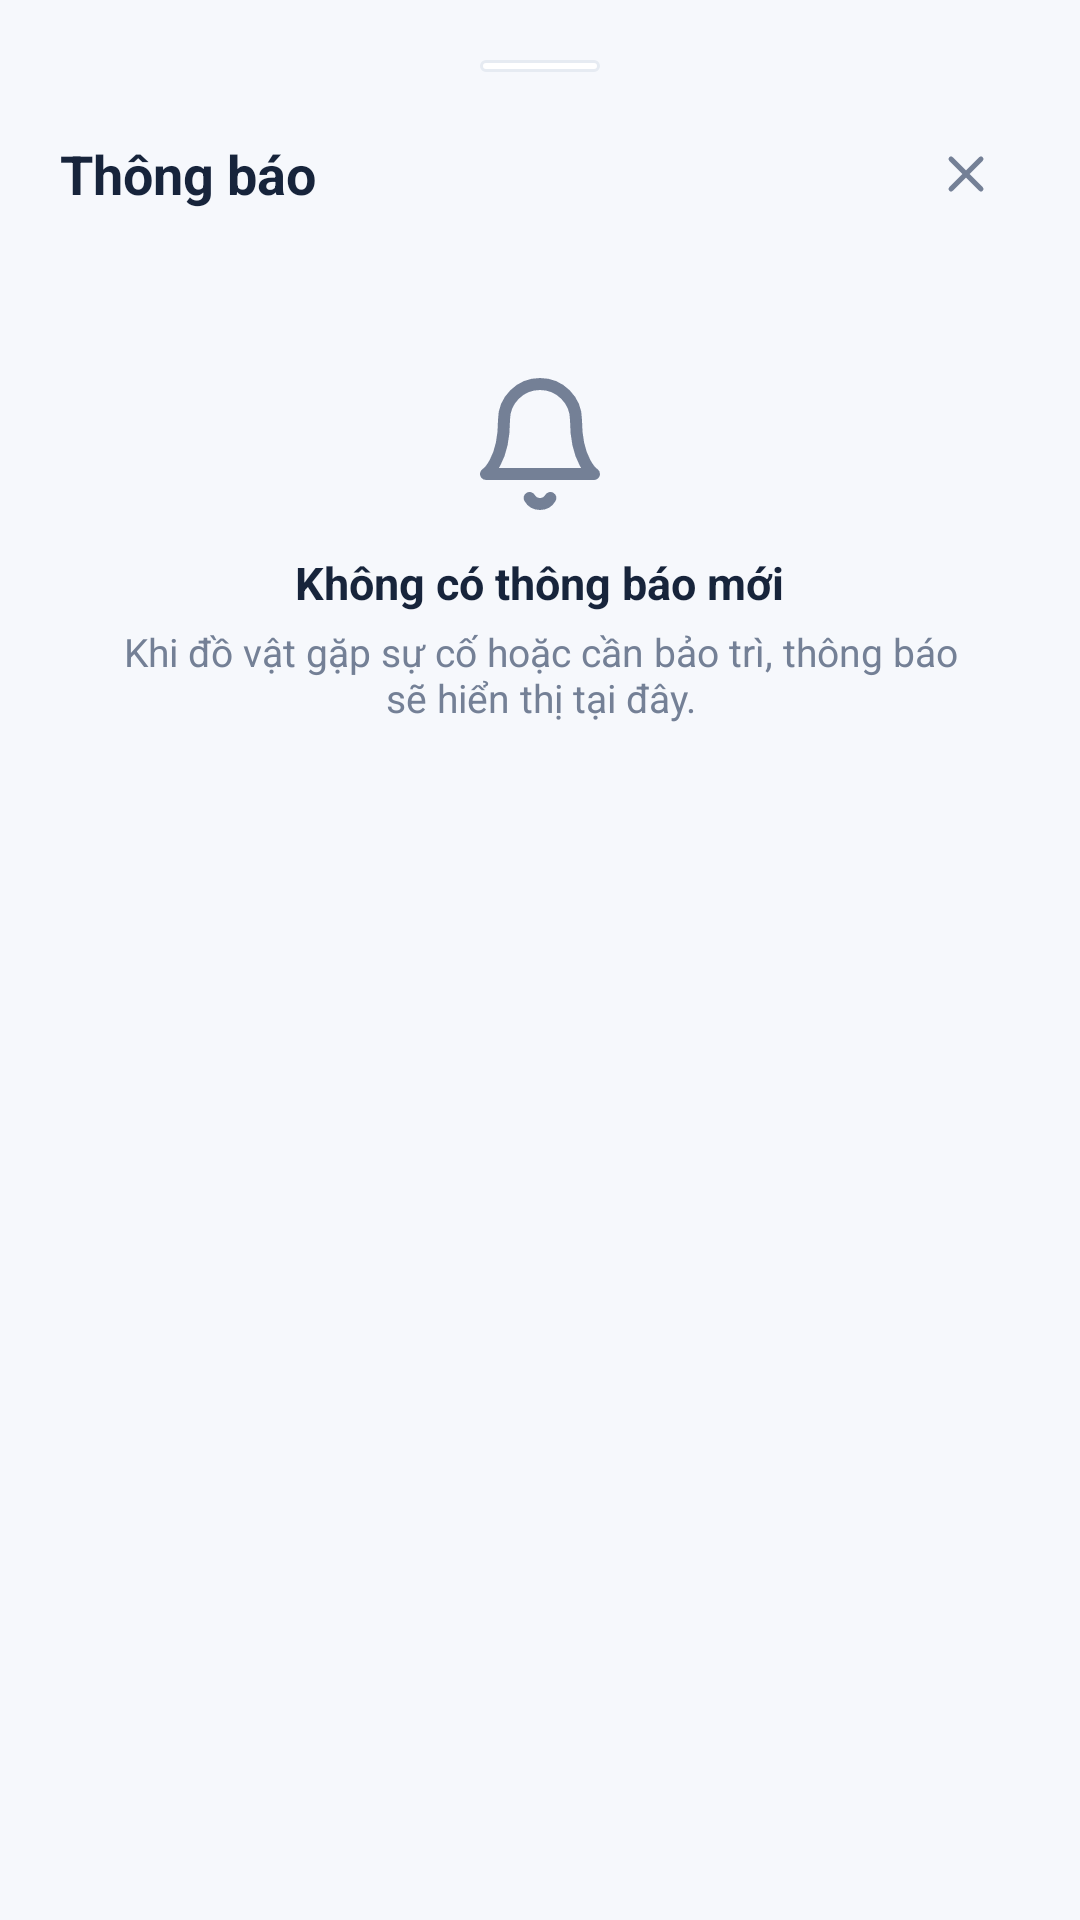

Named icons in this screenshot (1080 x 1920) and their bounding boxes, (x1, y1, x2, y2):
notifications: (480, 378, 600, 510)
Đóng: (948, 156, 984, 192)
